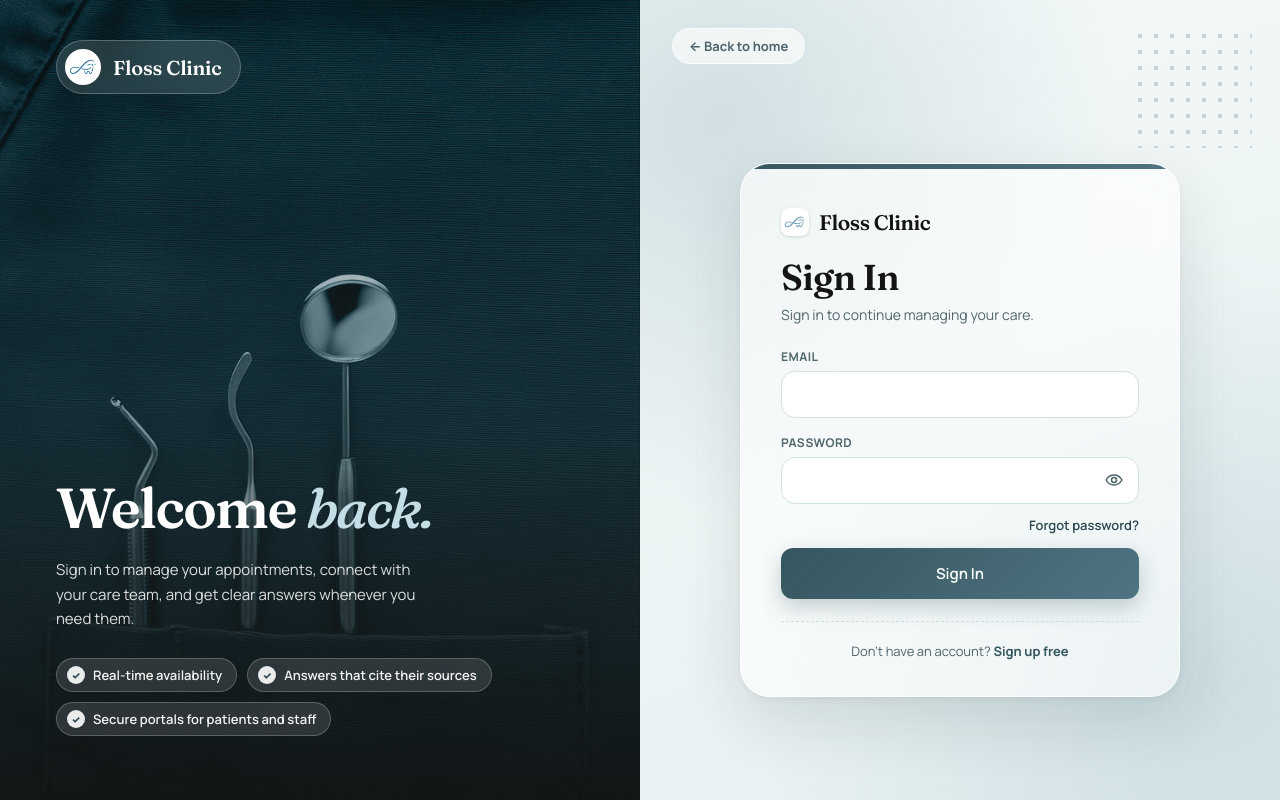
it: LoginPage › on failure, shows the server error message instead of navigating
Type "patient@floss.demo" into the field labelled "Email". click: {"x": 960, "y": 394}
box: left=781, top=371, right=1139, bottom=418
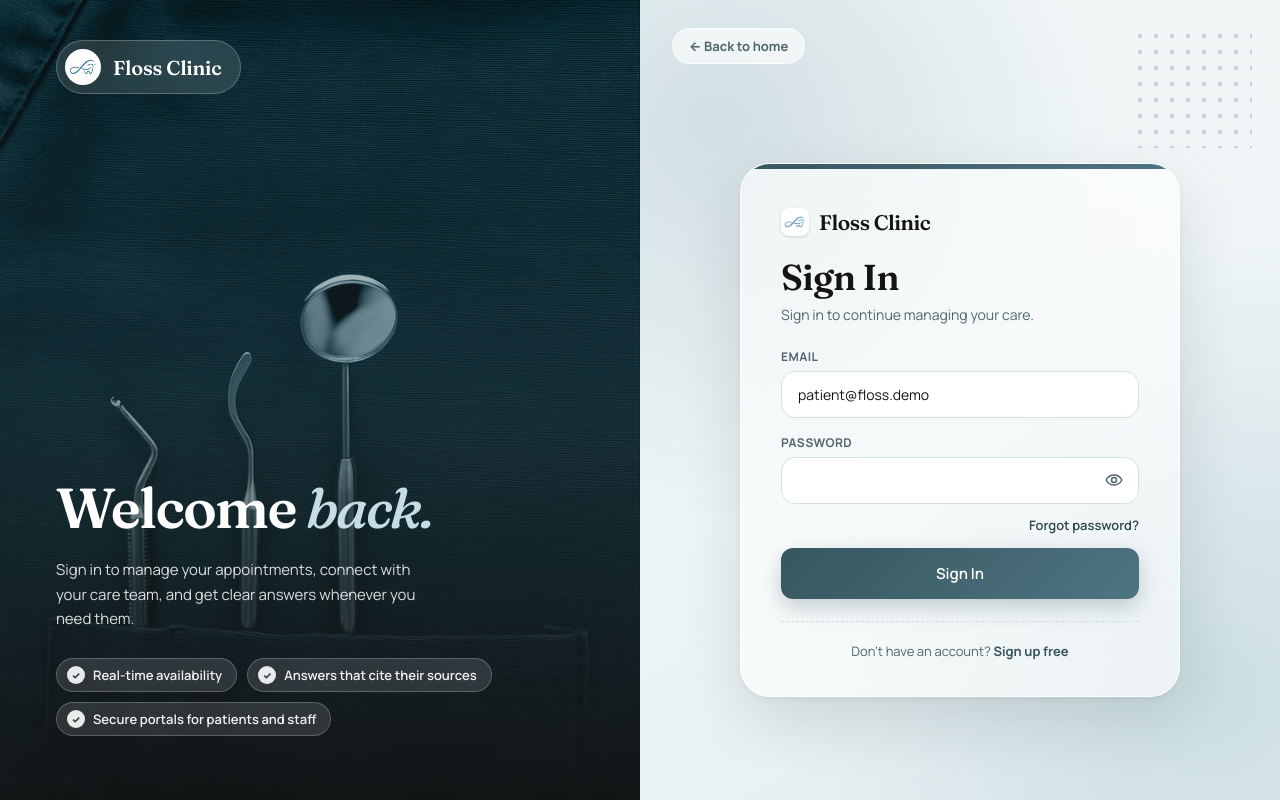
Type "password123" into the password field labelled "Password". click: {"x": 960, "y": 480}
box: left=781, top=457, right=1139, bottom=504
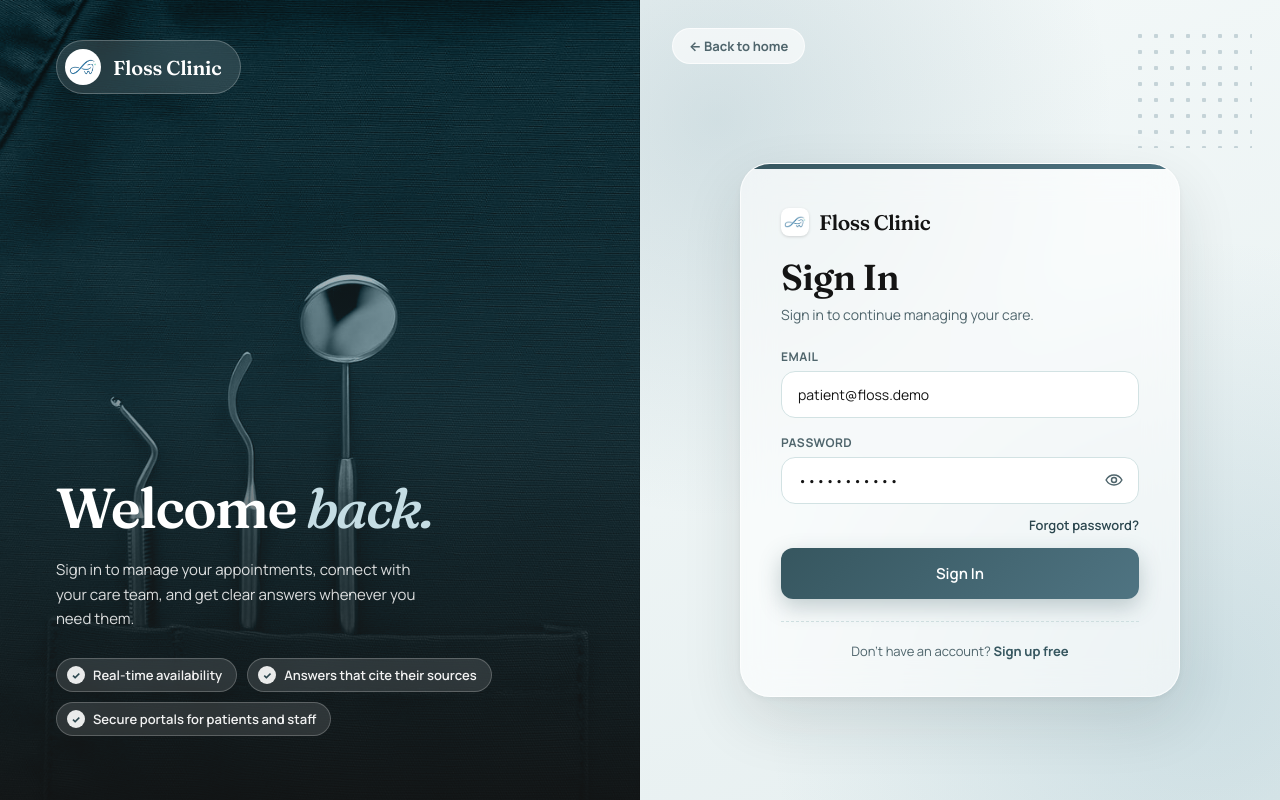
Click the button "Sign In". click: {"x": 960, "y": 574}
box: left=781, top=548, right=1139, bottom=599
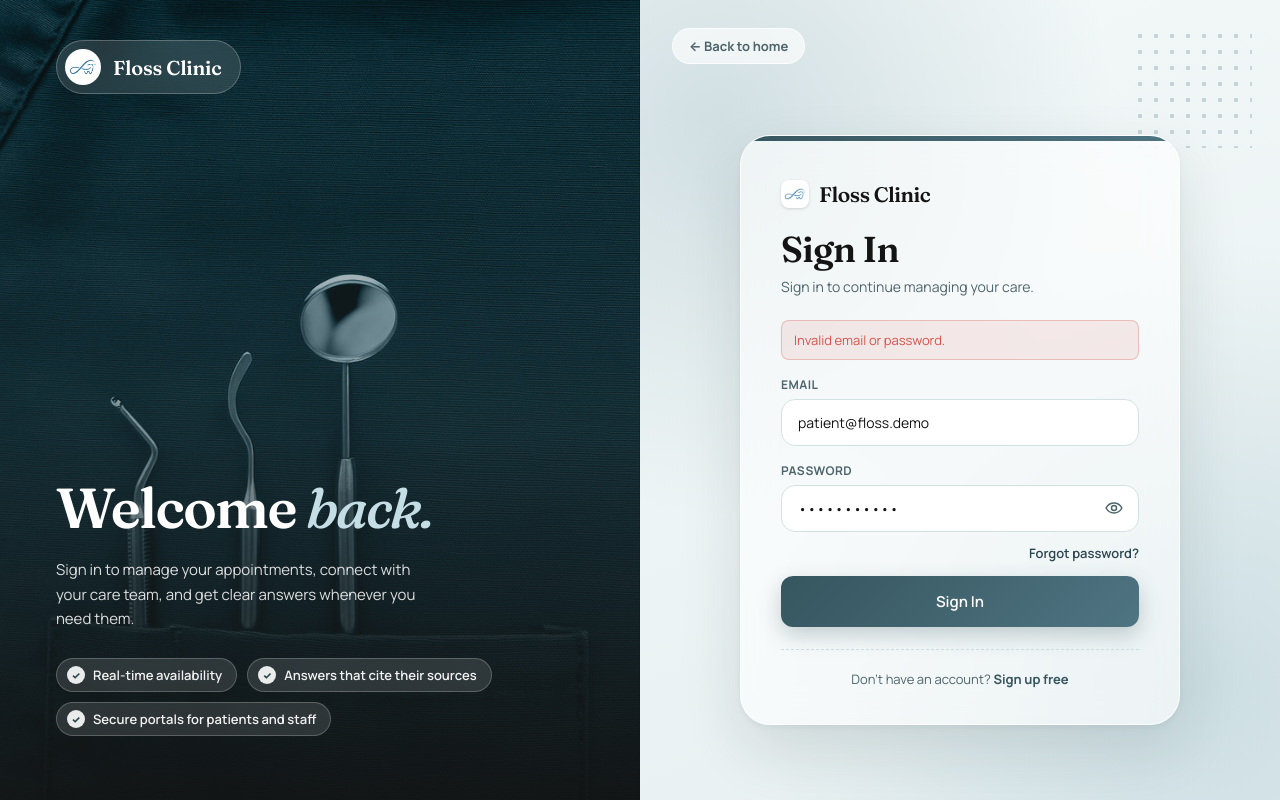
Expected: the text "Invalid email or password." is shown, left=781, top=320, right=1139, bottom=360
